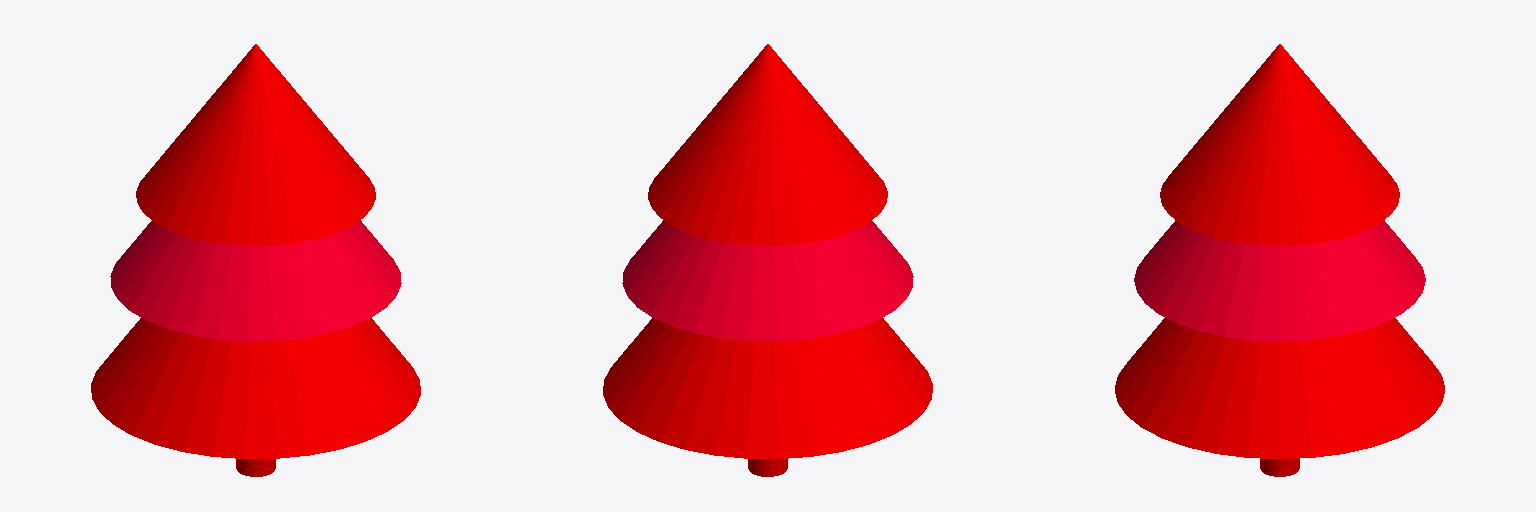
The model's file is tree.obj.
The picture shows the model from 3 angles: view 1: azimuth 30°, elevation 25°; view 2: azimuth 150°, elevation 25°; view 3: azimuth 270°, elevation 25°; orthographic projection.
Visible parts, largest first — view 1: Cylinder.001; view 2: Cylinder.001; view 3: Cylinder.001.
Boxes of the visible parts, x1=… form: Cylinder.001: x1=91, y1=44, x2=420, y2=476; Cylinder.001: x1=603, y1=44, x2=932, y2=476; Cylinder.001: x1=1115, y1=44, x2=1444, y2=476.
Bounding box in the file's own units: 1 × 1.42 × 1.